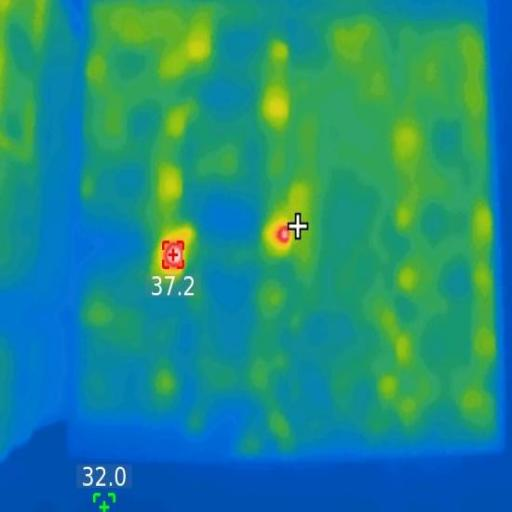hotspot: (161, 237, 188, 274), (278, 222, 292, 248)
